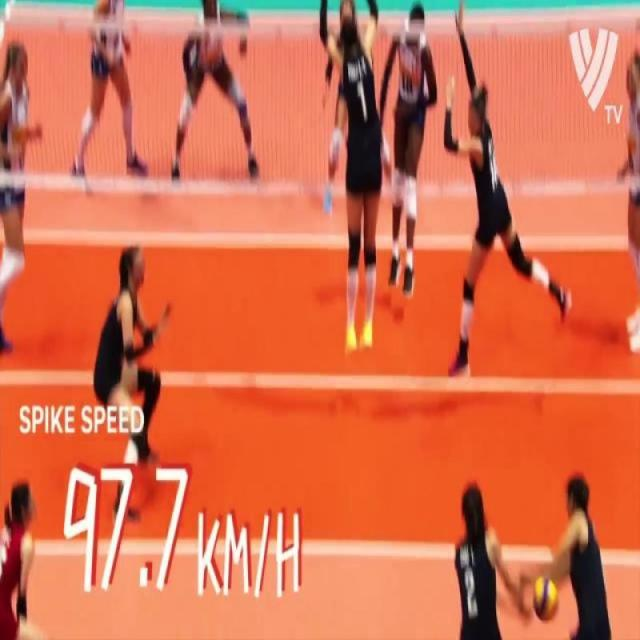volleyball: (530, 576, 562, 624)
